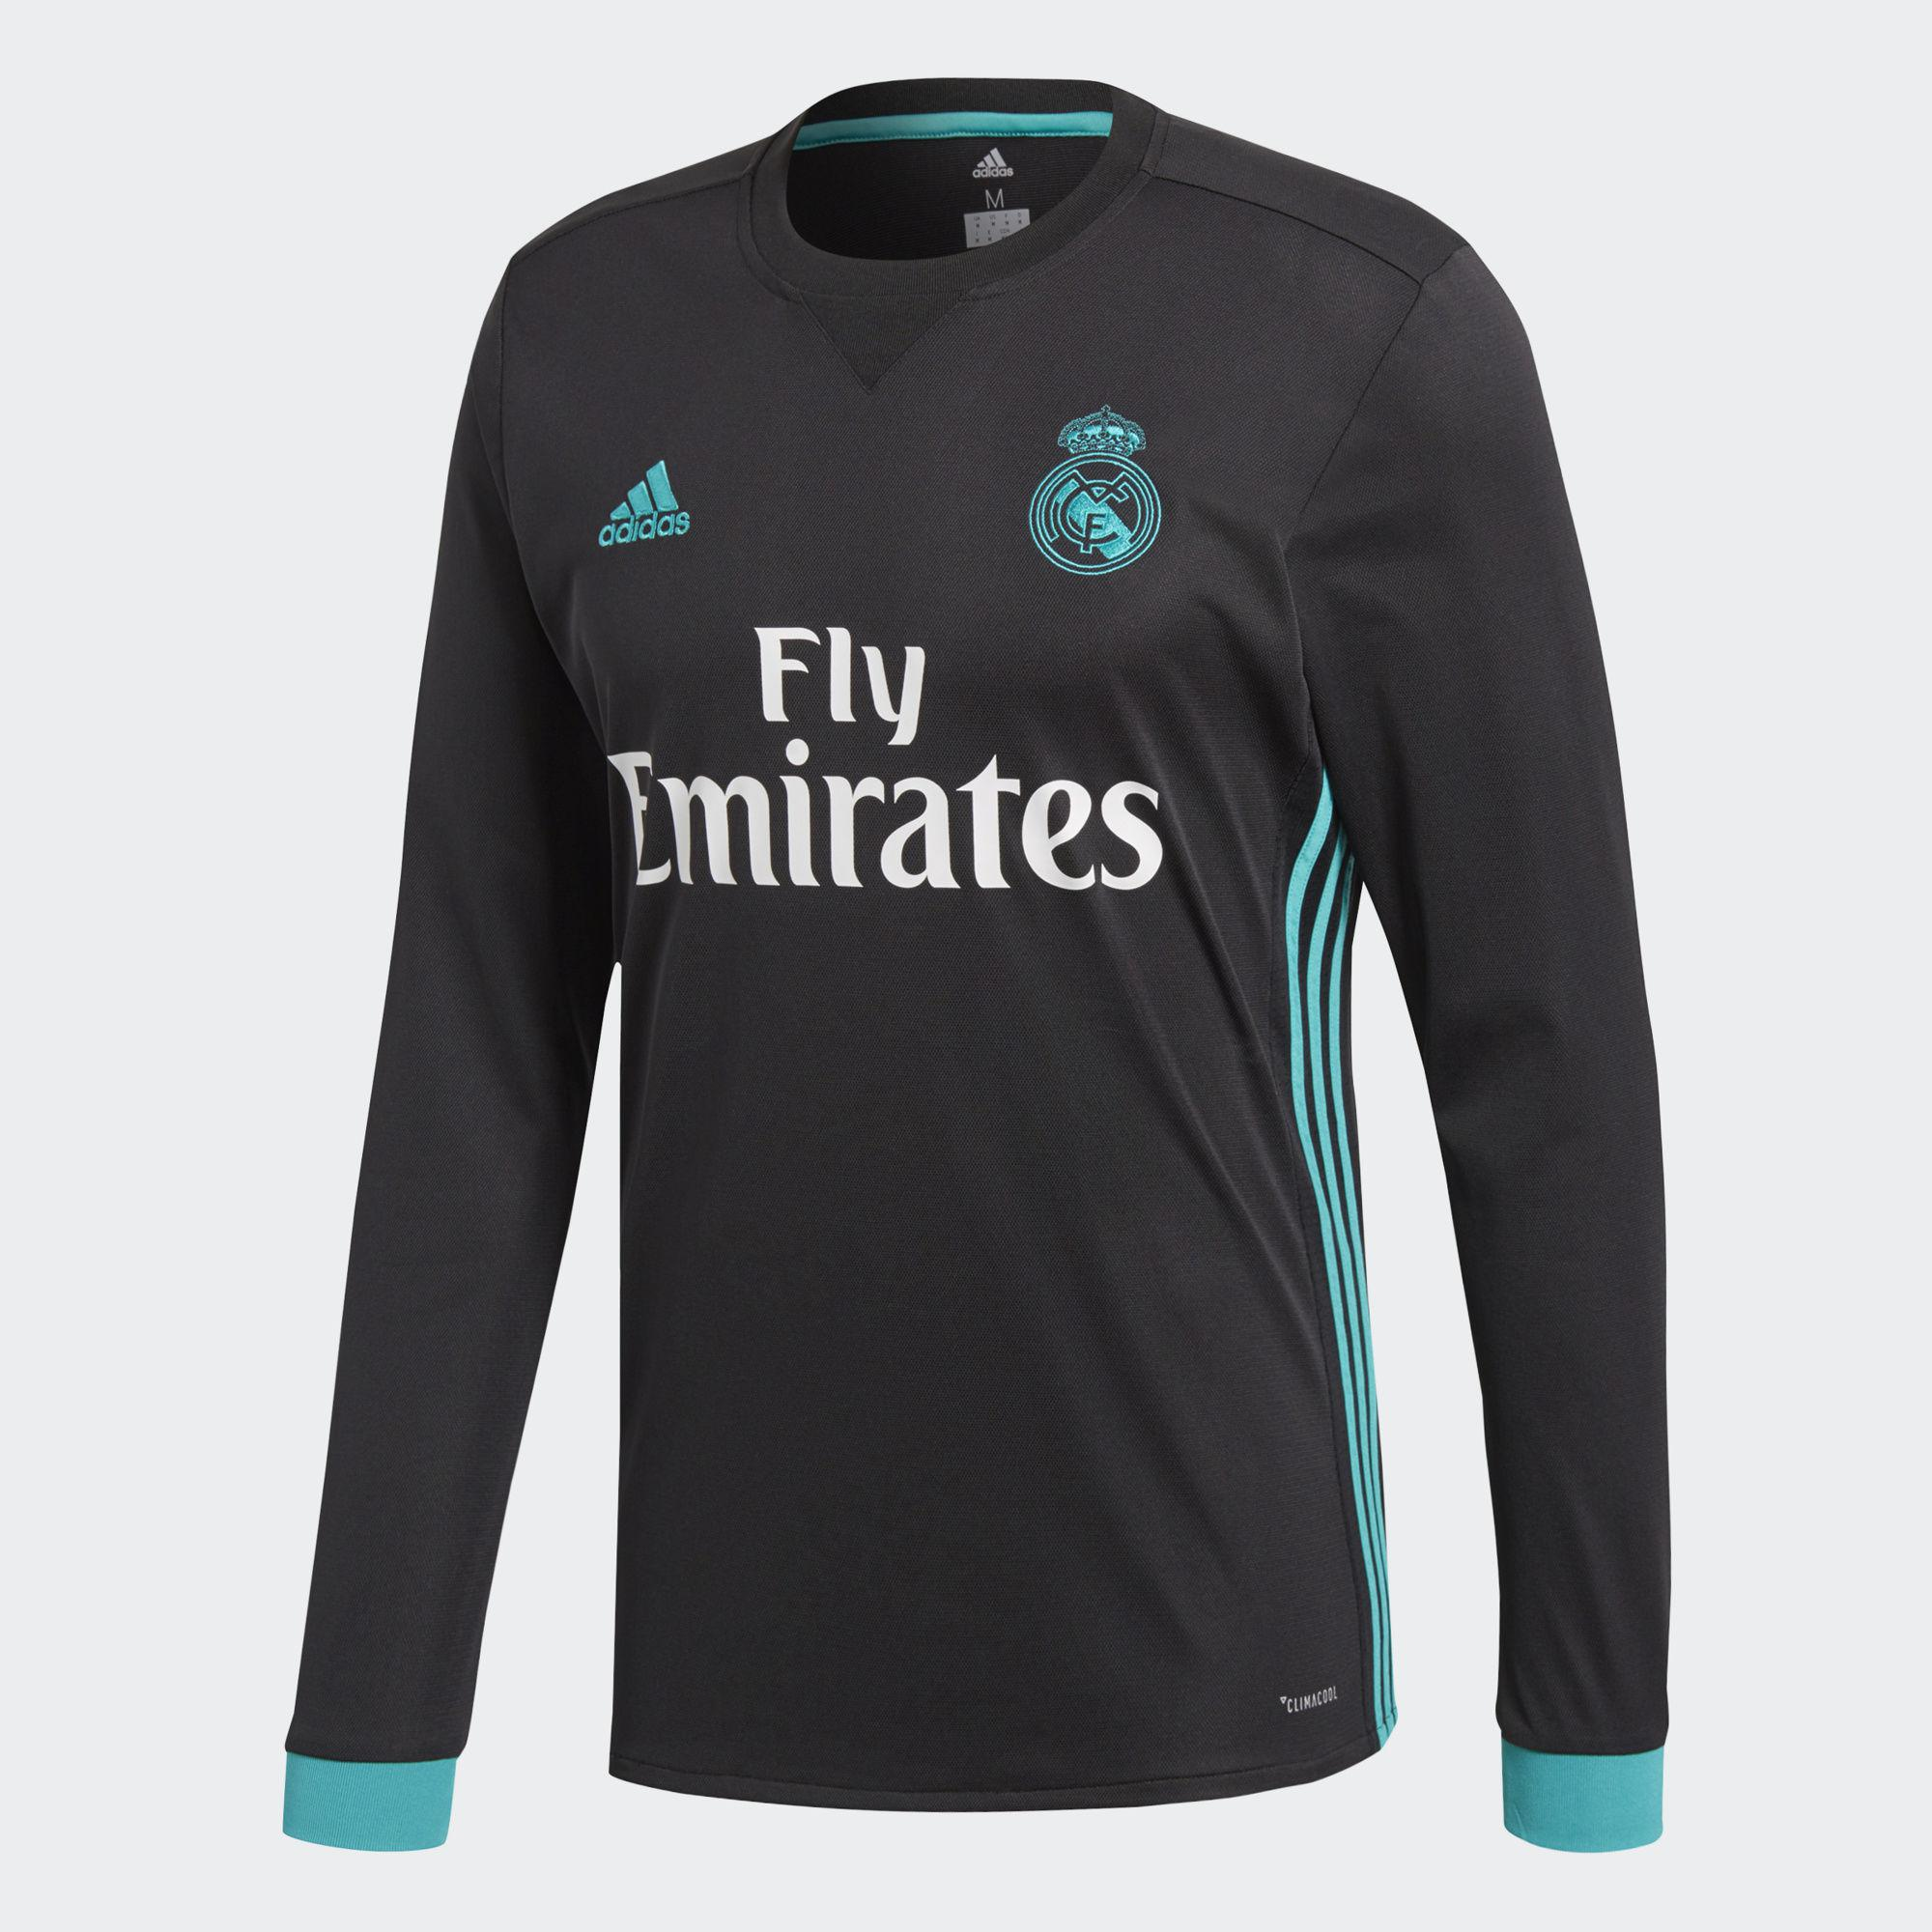teeshirt: (265, 58, 1748, 1932)
